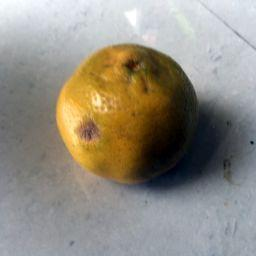Unripe: (56, 44, 198, 179)
